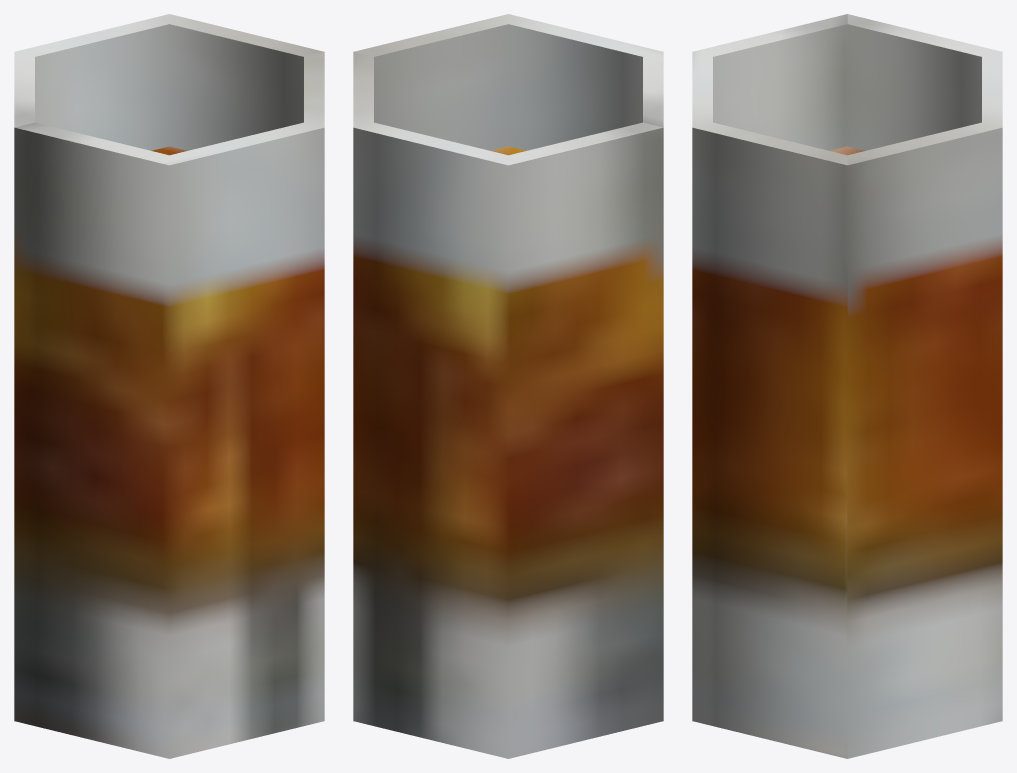
Rendered from DrinkV1.fbx.
3 renders of one model, left to right at view 1: azimuth 30°, elevation 25°; view 2: azimuth 150°, elevation 25°; view 3: azimuth 270°, elevation 25°, orthographic.
Parts seen in each view (by area): view 1: Cocktails.006; view 2: Cocktails.006; view 3: Cocktails.006.
Boxes of the visible parts, left/top/right/bottom form: Cocktails.006: left=14, top=14, right=324, bottom=758; Cocktails.006: left=353, top=14, right=663, bottom=758; Cocktails.006: left=692, top=14, right=1002, bottom=758.
Size of the model in its own units: 0.0839 by 0.1534 by 0.0727.
